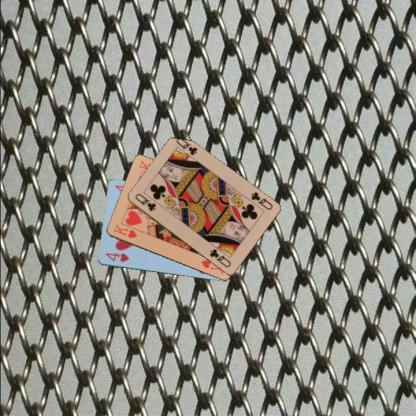4h: (103, 250, 130, 264)
Kh: (111, 222, 138, 240)
Qc: (248, 189, 274, 211), (132, 190, 157, 212)
